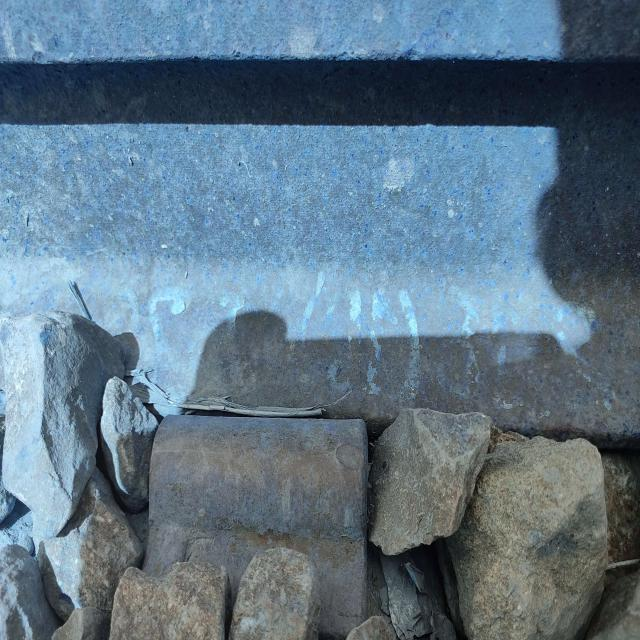Missing Fastener: (124, 363, 411, 635)
